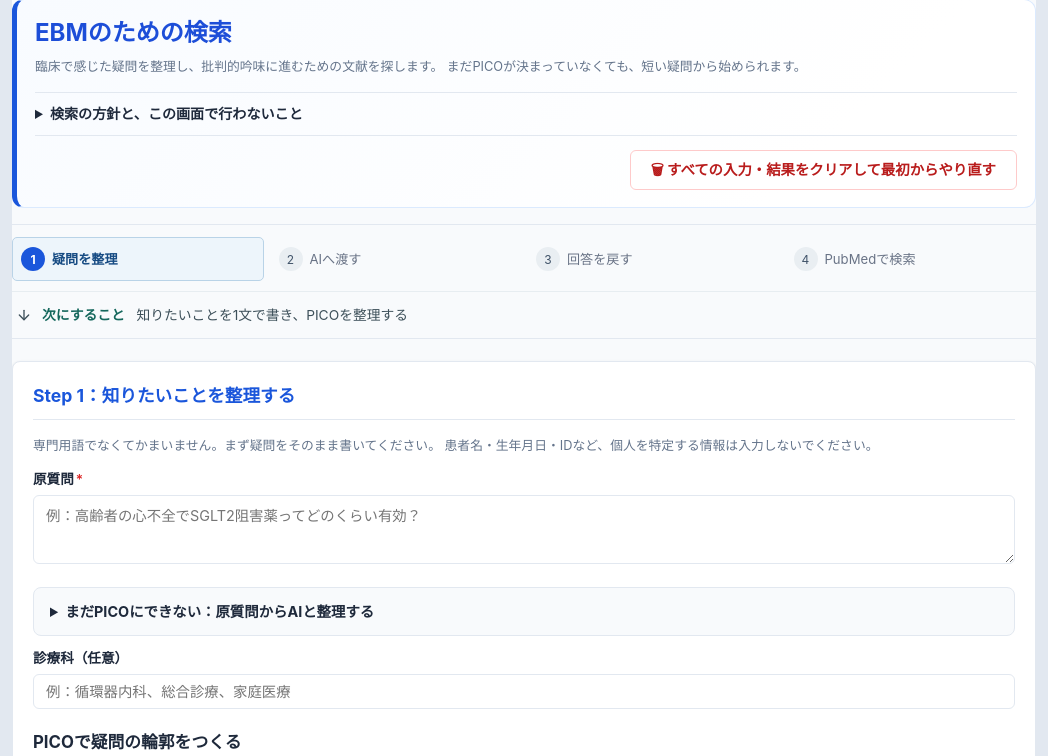
Test case: lets beginners start from a short question without keyword-based alerts
Step 1. Type "腰痛の運動について知りたい" into the text box labelled "原質問*" → [524, 529], box [33, 494, 1015, 564]
(page scrolled)
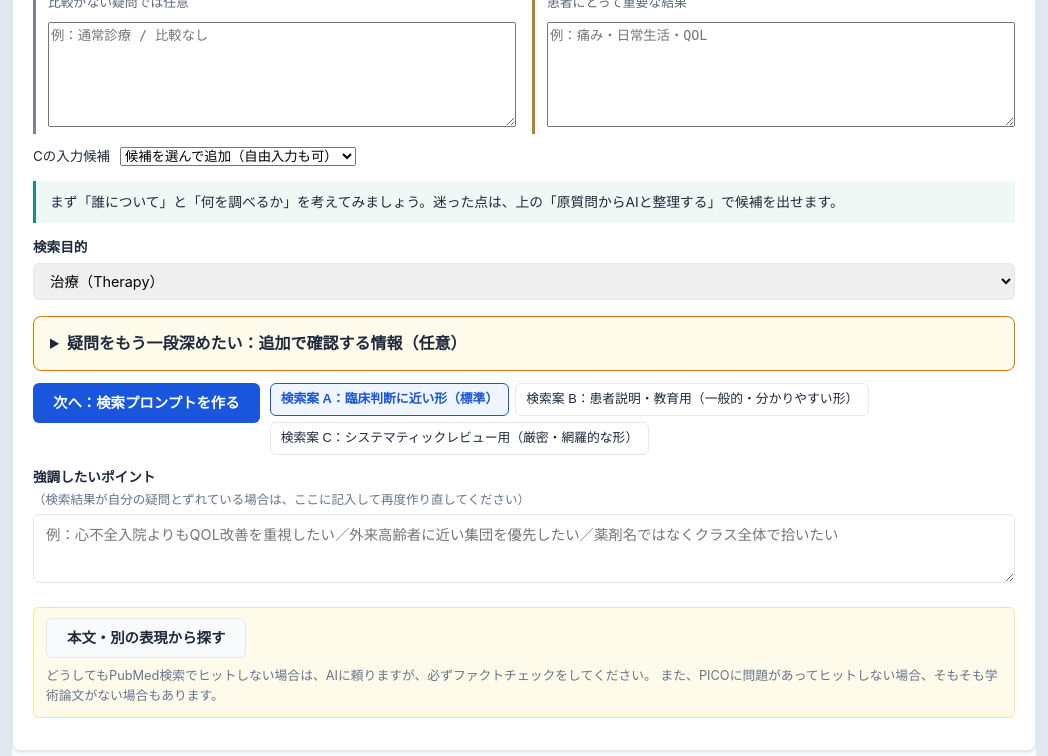
Step 2. Click the button "次へ：検索プロンプトを作る" → [146, 404], box [33, 384, 260, 424]
(page scrolled)
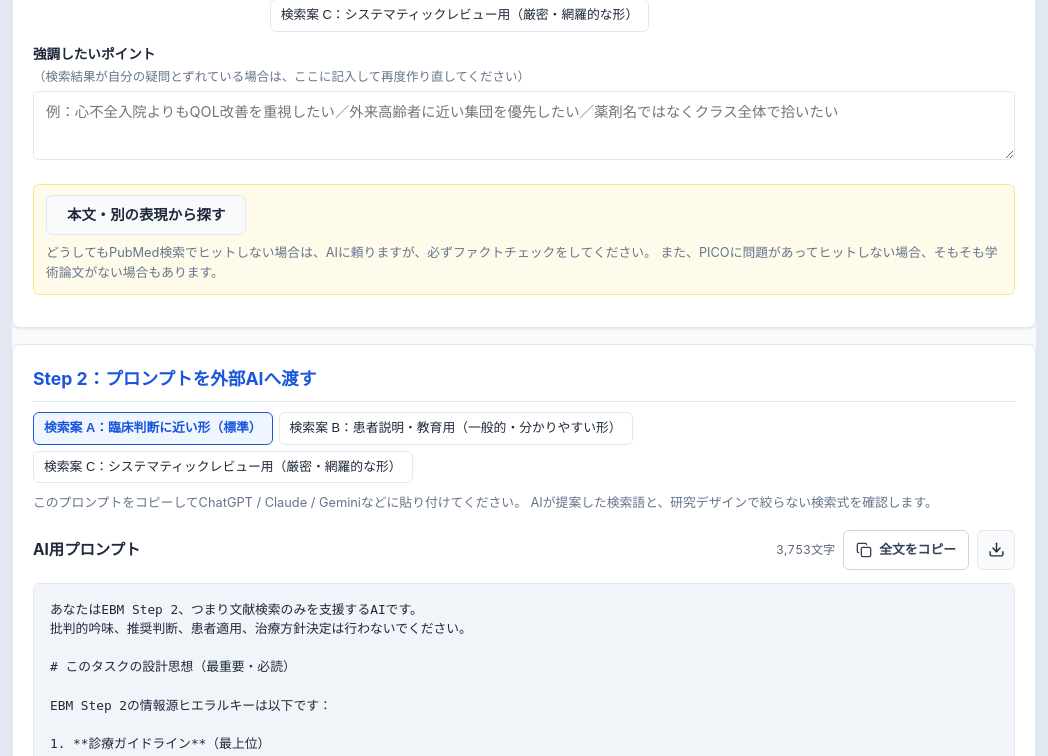
Check: the heading "Step 2：プロンプトを外部AIへ渡す" is shown, box [33, 365, 1015, 402]
